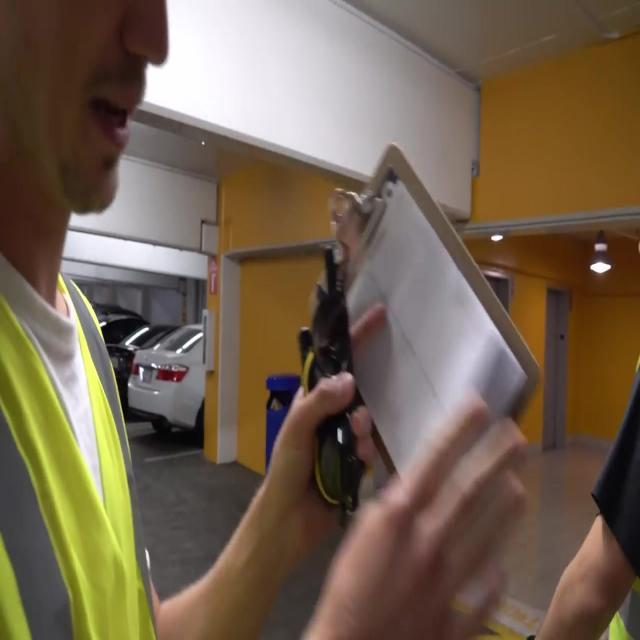reflective_jacket: (2, 236, 159, 639)
